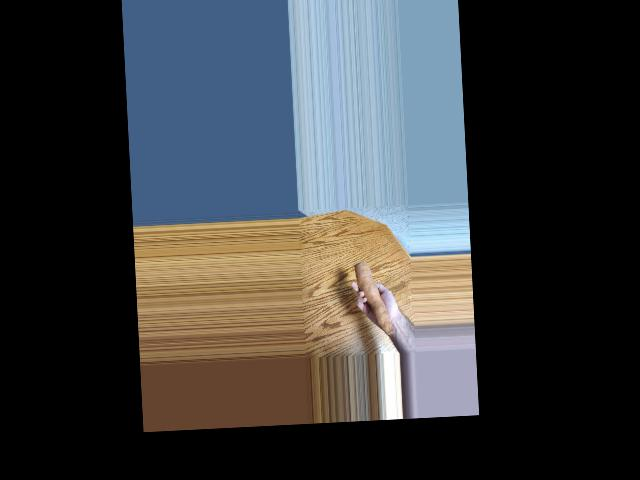sweet_potato: (359, 262, 395, 336)
